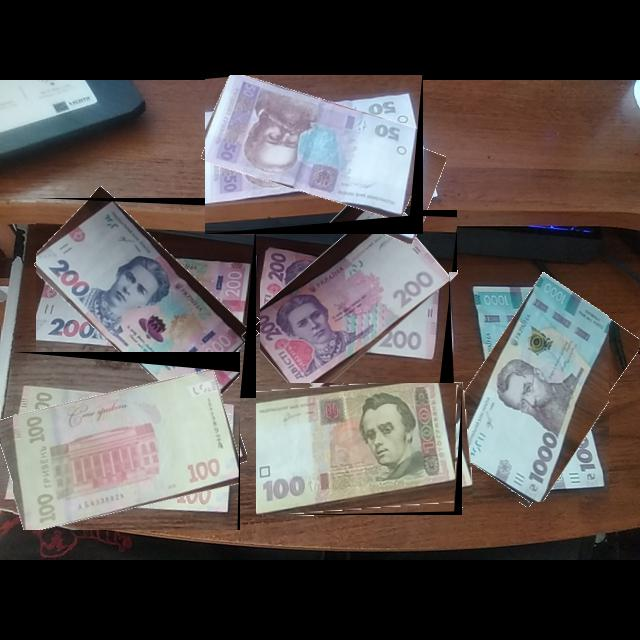1000uah: (456, 272, 610, 503)
100uah: (13, 366, 239, 531), (256, 383, 458, 516)
200uah: (36, 201, 248, 399), (260, 214, 453, 391)
50uah: (205, 75, 420, 221)
